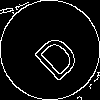D: (25, 25, 83, 83)
